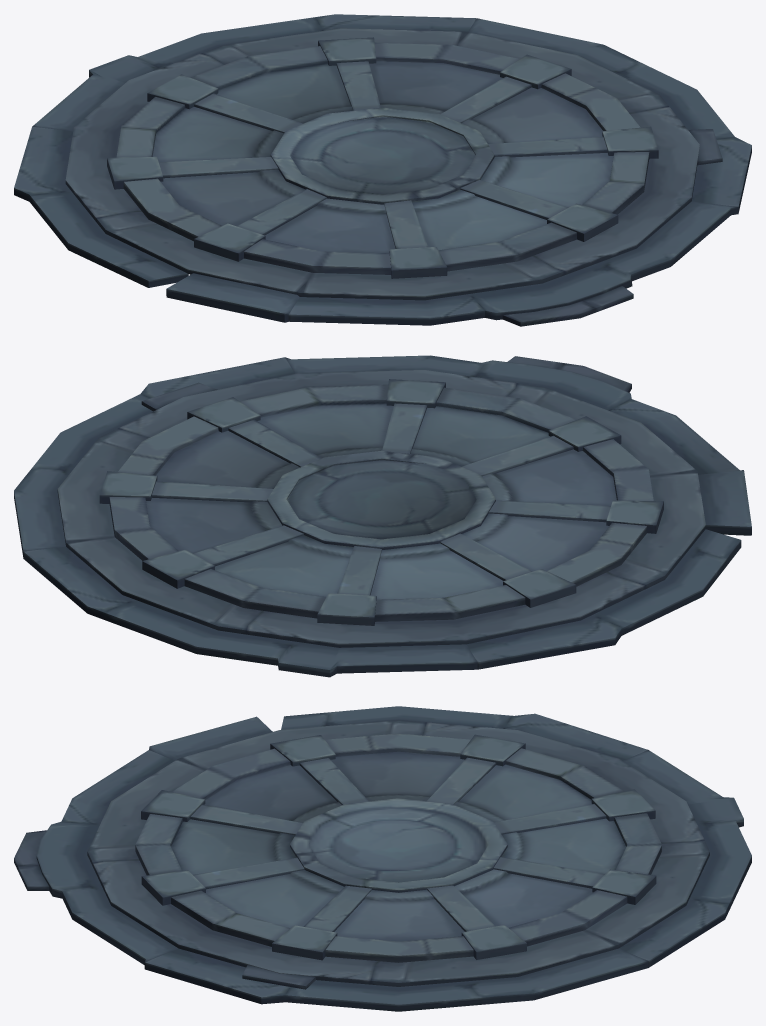
The model's file is Area_04_8.fbx.
3 renders of one model, top to bottom at view 1: azimuth 30°, elevation 25°; view 2: azimuth 150°, elevation 25°; view 3: azimuth 270°, elevation 25°, orthographic. The views are drawn at different scales.
Visible parts, largest first — view 1: Area_04_8; view 2: Area_04_8; view 3: Area_04_8.
Part boxes in pixels (box(x1,y1,x2,y2)): Area_04_8: box(14, 14, 751, 326); Area_04_8: box(14, 355, 751, 677); Area_04_8: box(14, 706, 751, 1011).
Bounding box in the file's own units: 1947 × 57.94 × 2034.
